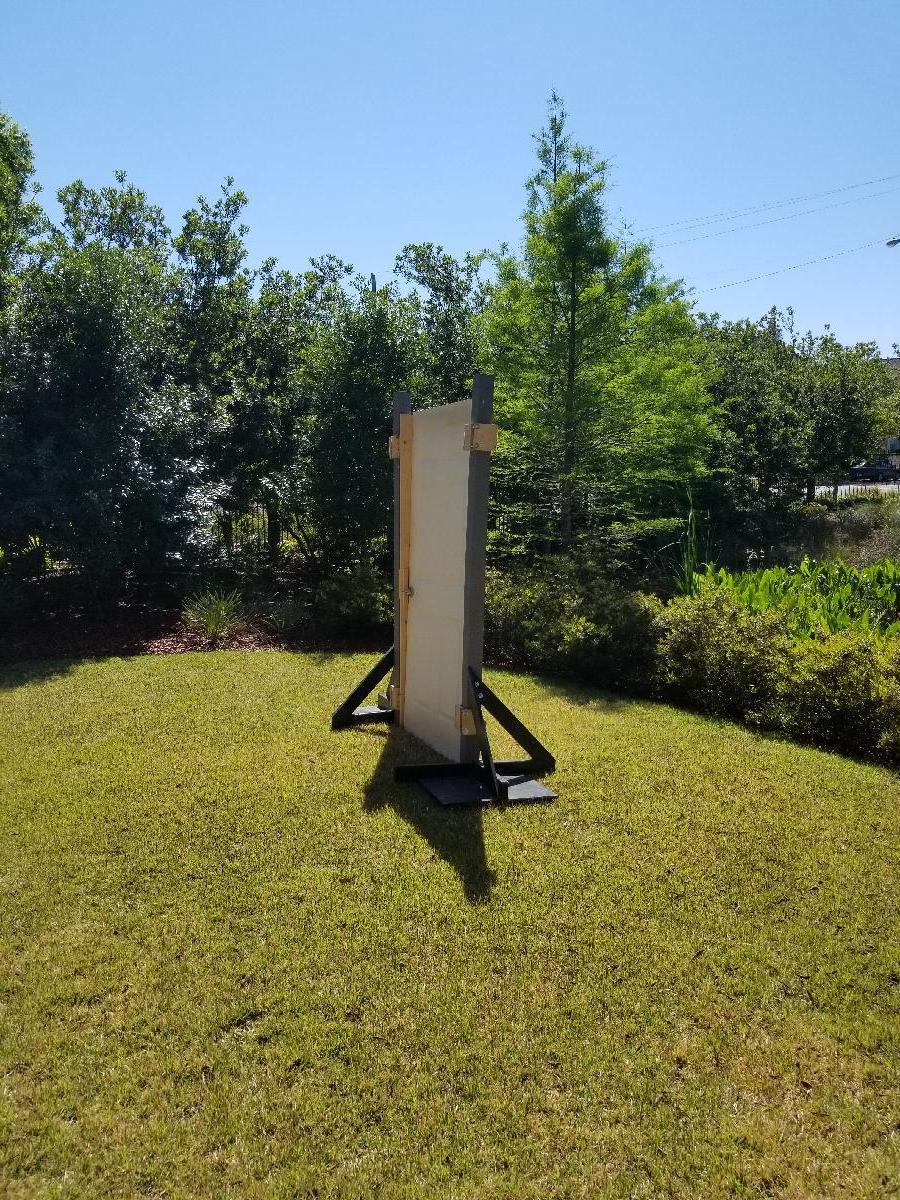door: (394, 400, 474, 754)
handle: (398, 583, 416, 600)
